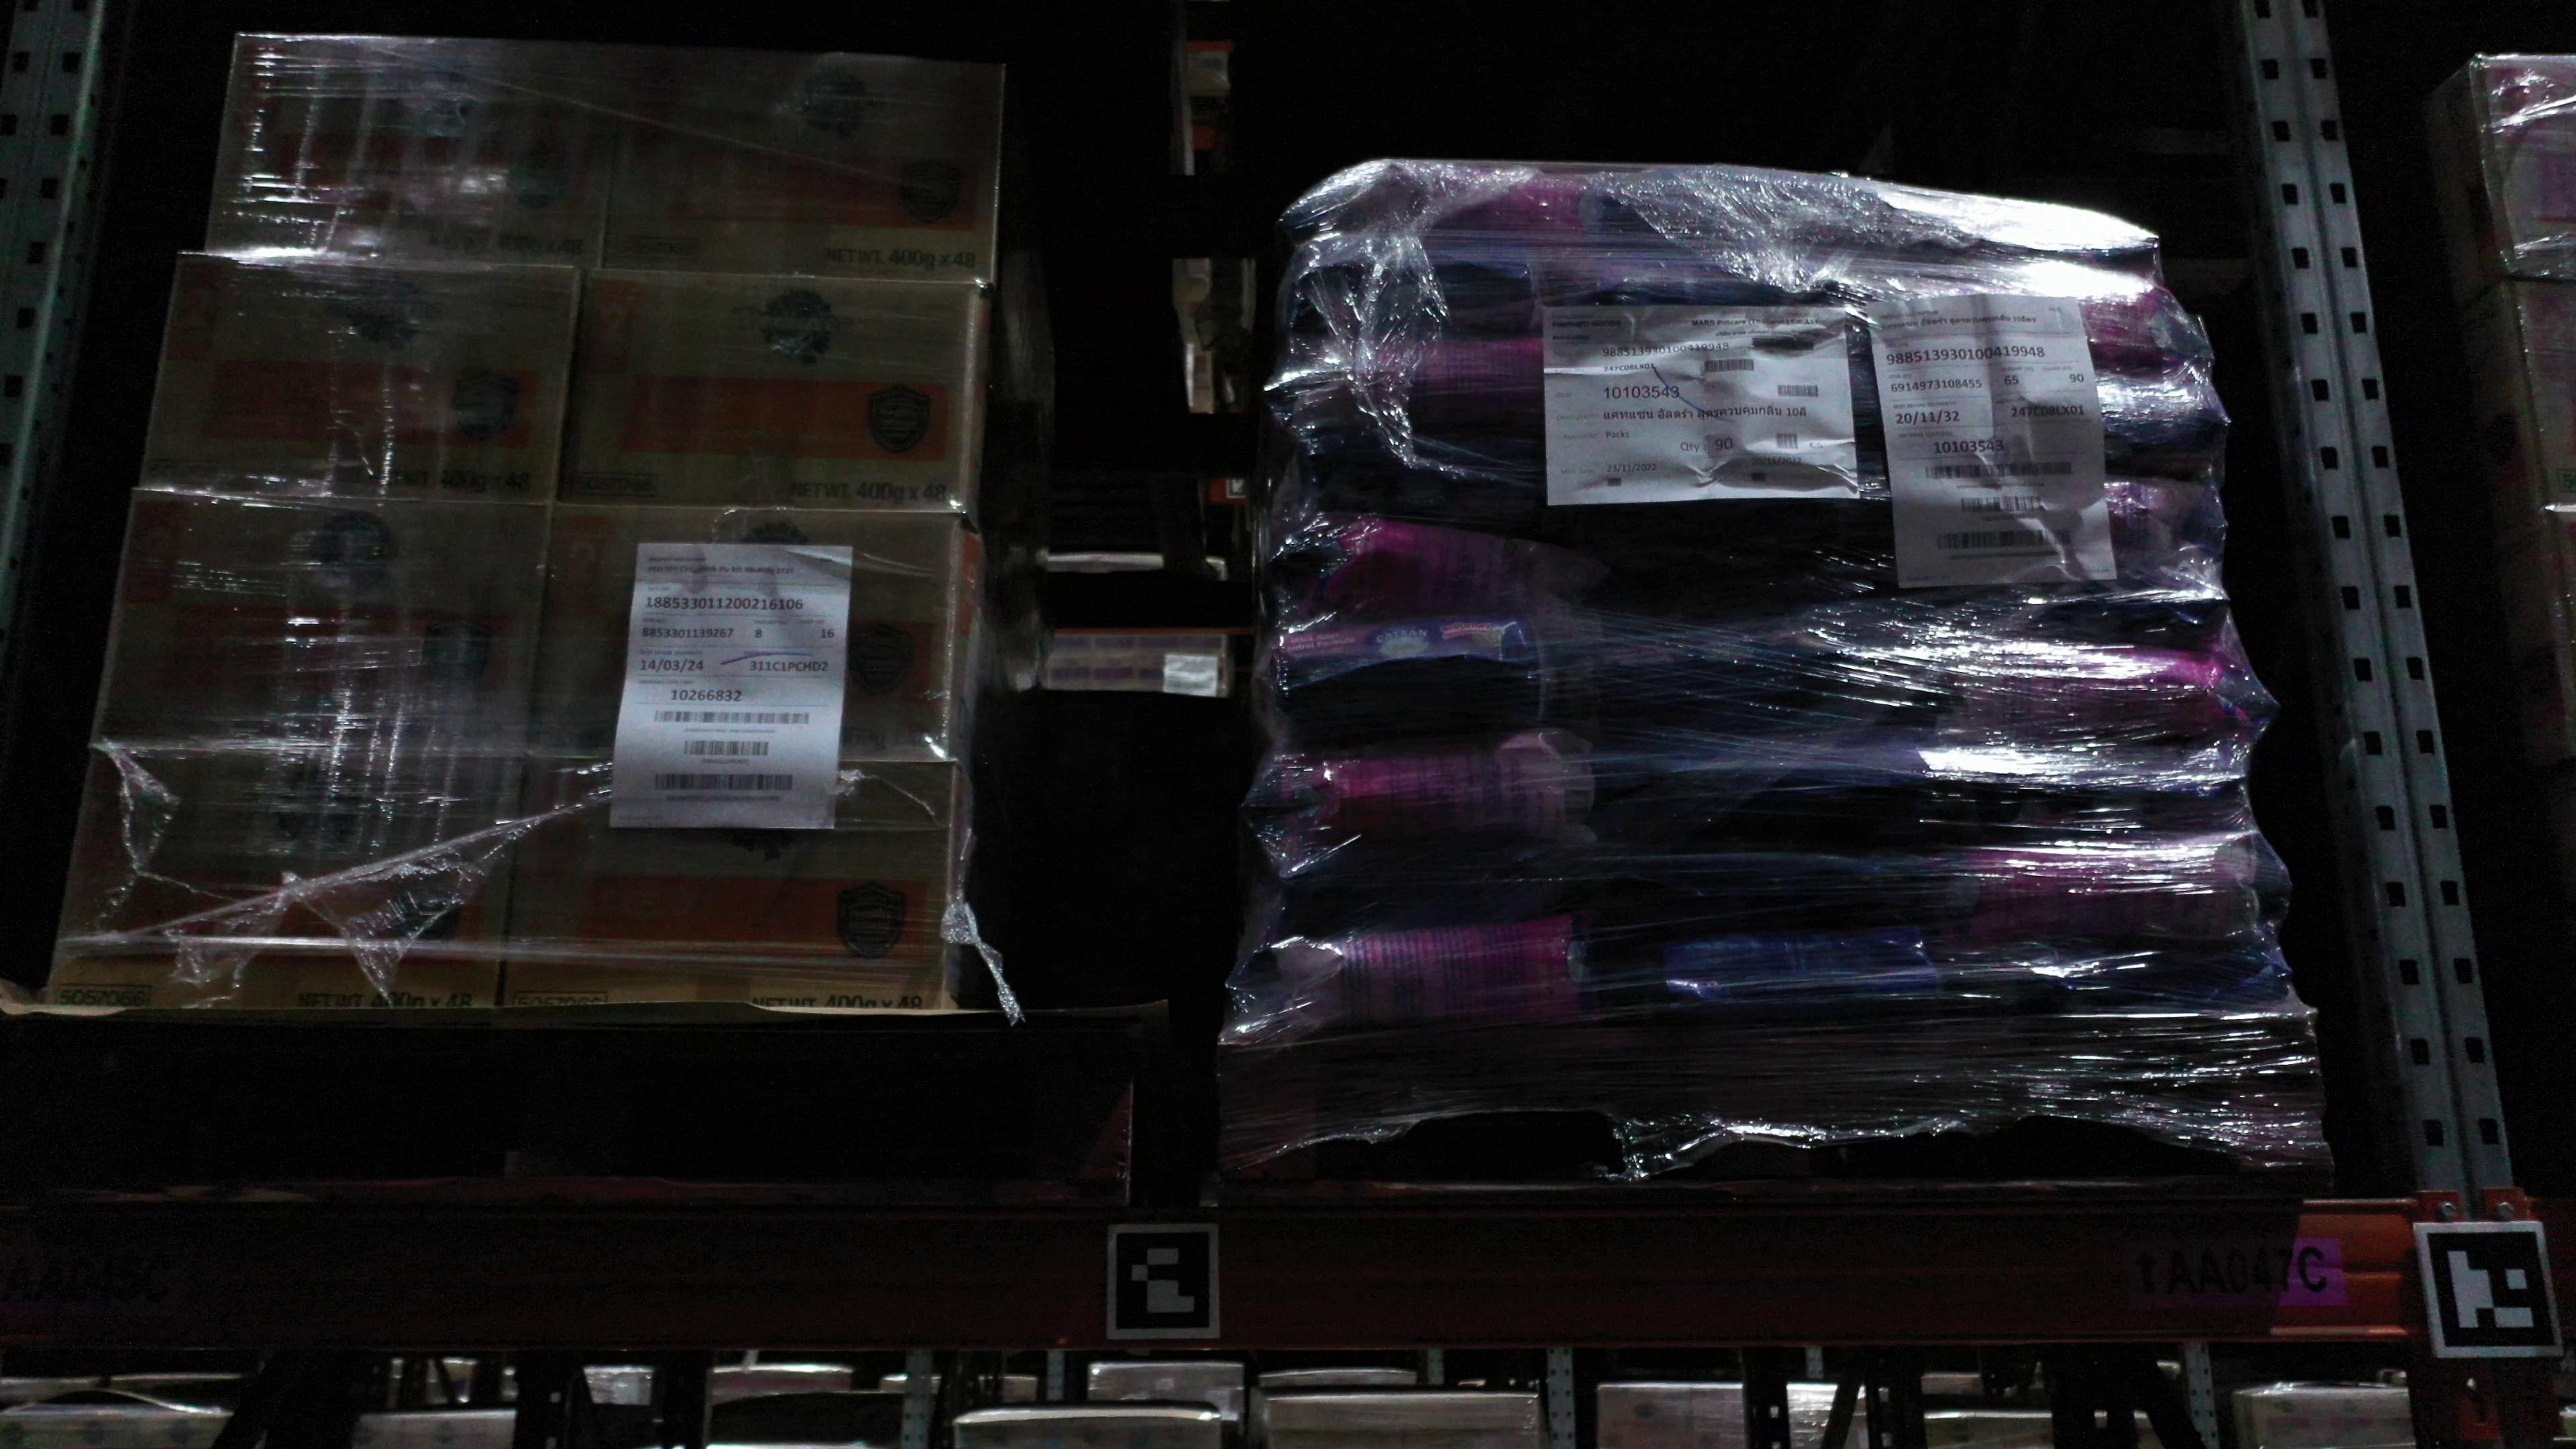-: (42, 745, 525, 1010), (94, 490, 554, 754), (497, 754, 952, 1014), (524, 501, 959, 763), (142, 251, 579, 506), (202, 32, 625, 271), (557, 269, 973, 511), (602, 44, 1007, 287), (2475, 51, 2576, 280), (2509, 280, 2576, 515)
